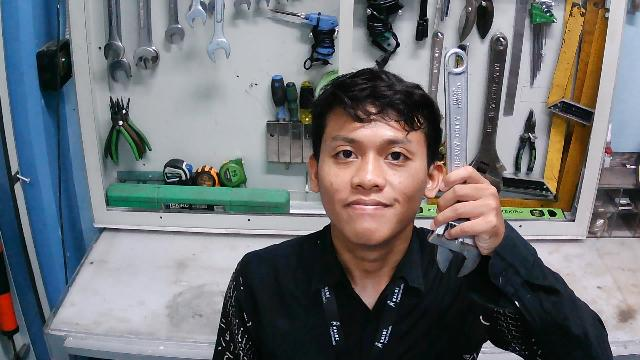kunci_inggris: (426, 46, 484, 282)
